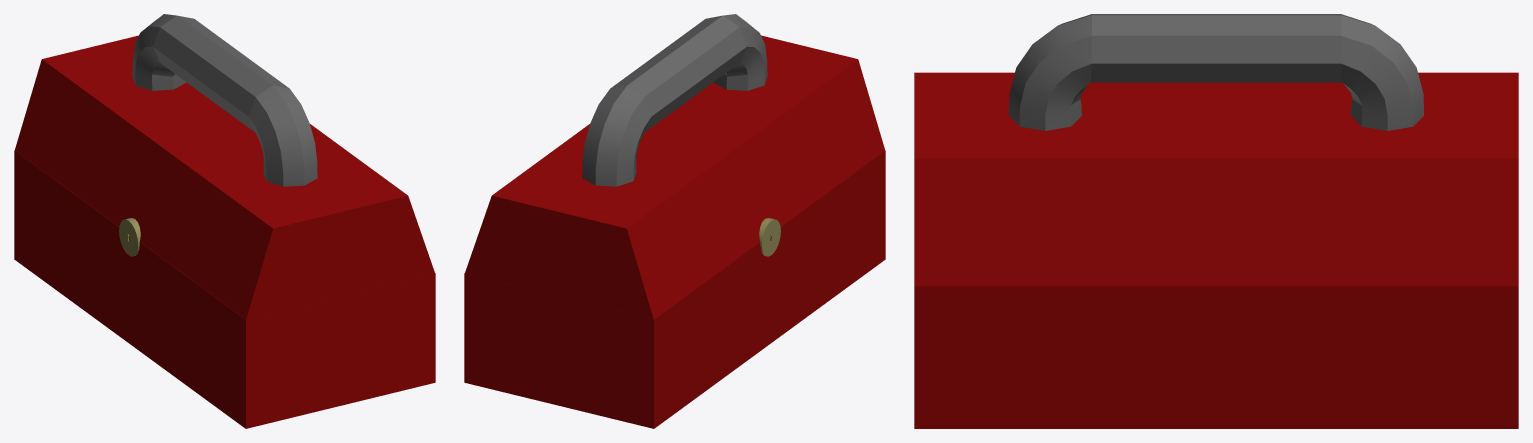
The model's file is Toolbox Closed.fbx.
3 views of the same model, side by side, from view 1: azimuth 30°, elevation 25°; view 2: azimuth 150°, elevation 25°; view 3: azimuth 270°, elevation 25° (orthographic). The views are drawn at different scales.
Visible parts, largest first — view 1: pCylinder1, pCube1, pCylinder2; view 2: pCylinder1, pCube1, pCylinder2; view 3: pCylinder1, pCube1.
Part boxes in pixels (x1,y1,x2,y2): pCylinder1: [15, 14, 434, 319]; pCube1: [14, 150, 435, 428]; pCylinder2: [119, 218, 140, 256]; pCylinder1: [465, 14, 884, 319]; pCube1: [464, 150, 885, 428]; pCylinder2: [759, 218, 780, 256]; pCylinder1: [914, 14, 1518, 286]; pCube1: [914, 286, 1518, 428].
Size of the model in its own units: 2.31 by 3.12 by 4.84.
